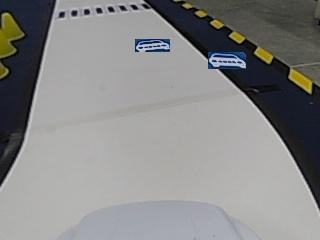crosswalk: (57, 3, 150, 17)
